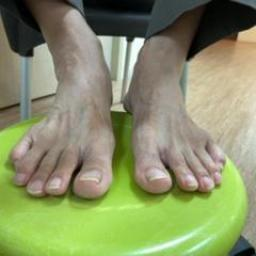Front View -Both Feet-: (1, 31, 253, 223)
